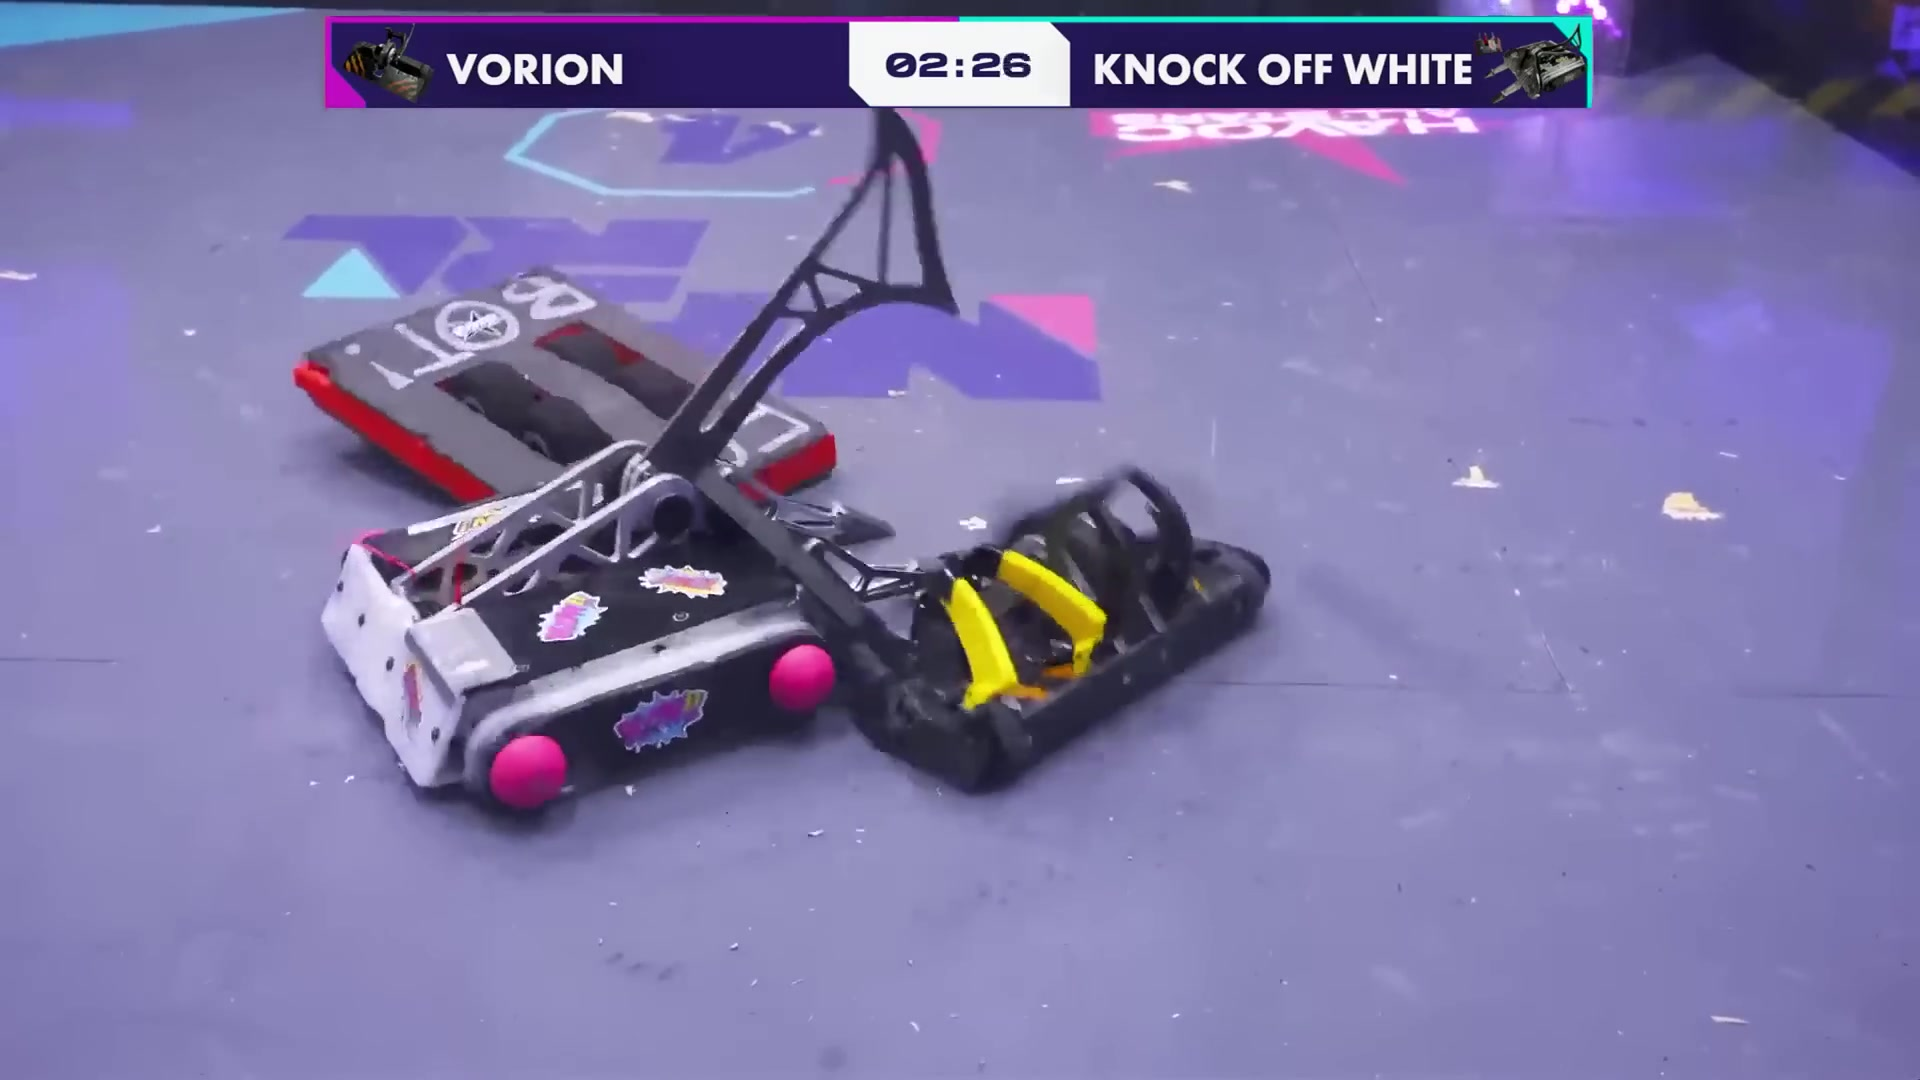combatbot: (321, 444, 844, 859), (864, 469, 1275, 803)
minibot: (285, 264, 835, 523)
